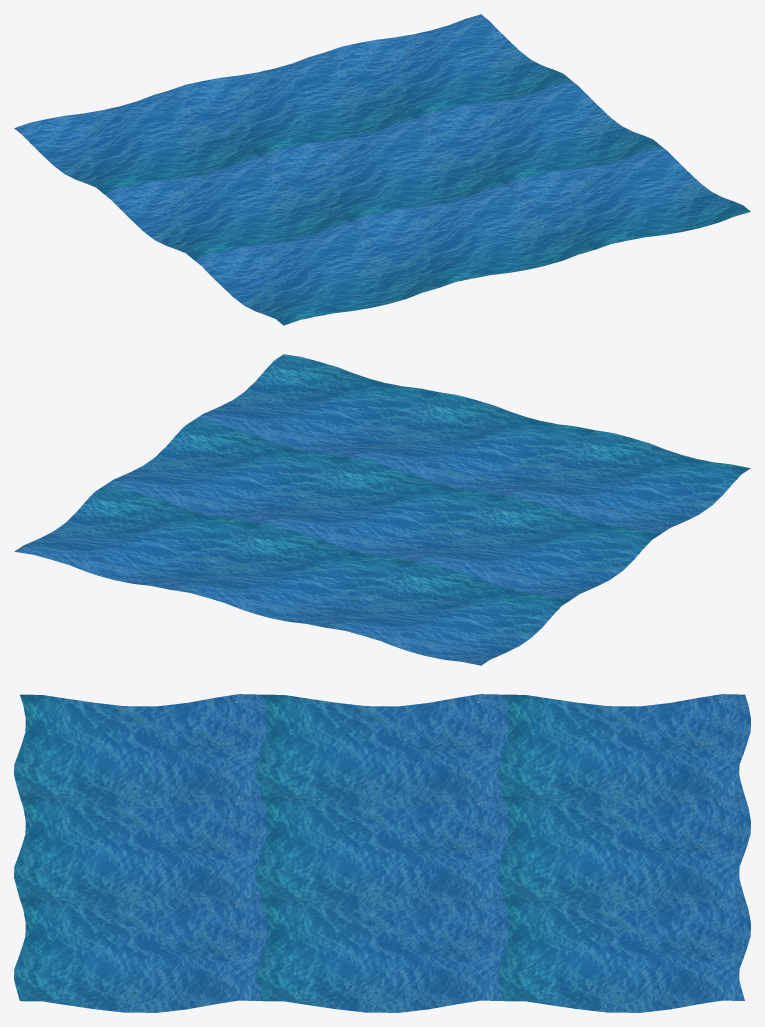
File: ocean_000281.obj
The picture shows the model from 3 angles, top to bottom: view 1: azimuth 30°, elevation 25°; view 2: azimuth 150°, elevation 25°; view 3: azimuth 270°, elevation 25°; orthographic projection. The views are drawn at different scales.
Parts seen in each view (by area): view 1: Ocean_Plan.001; view 2: Ocean_Plan.001; view 3: Ocean_Plan.001.
Boxes of the visible parts, x1,y1,x2,y2 form: Ocean_Plan.001: (14,14,750,325); Ocean_Plan.001: (14,354,750,665); Ocean_Plan.001: (14,694,750,1012).
Bounding box in the file's own units: 109288 × 2443 × 110731.
1 material, 1 textured.
